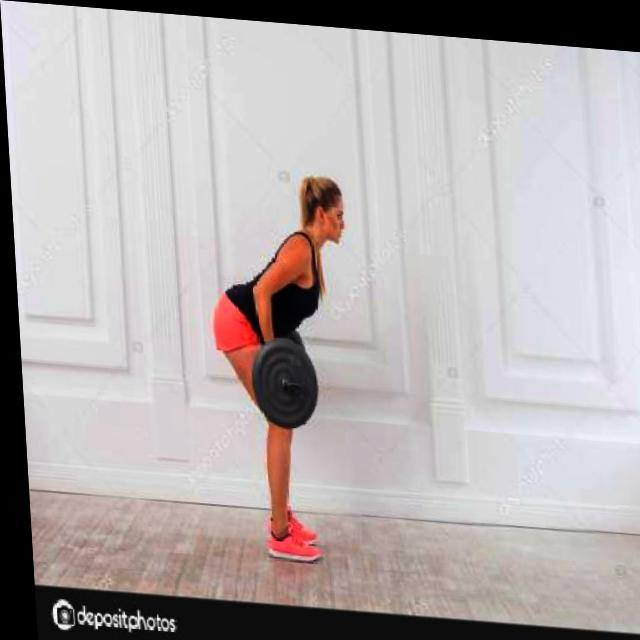barbell: (243, 328, 320, 432)
